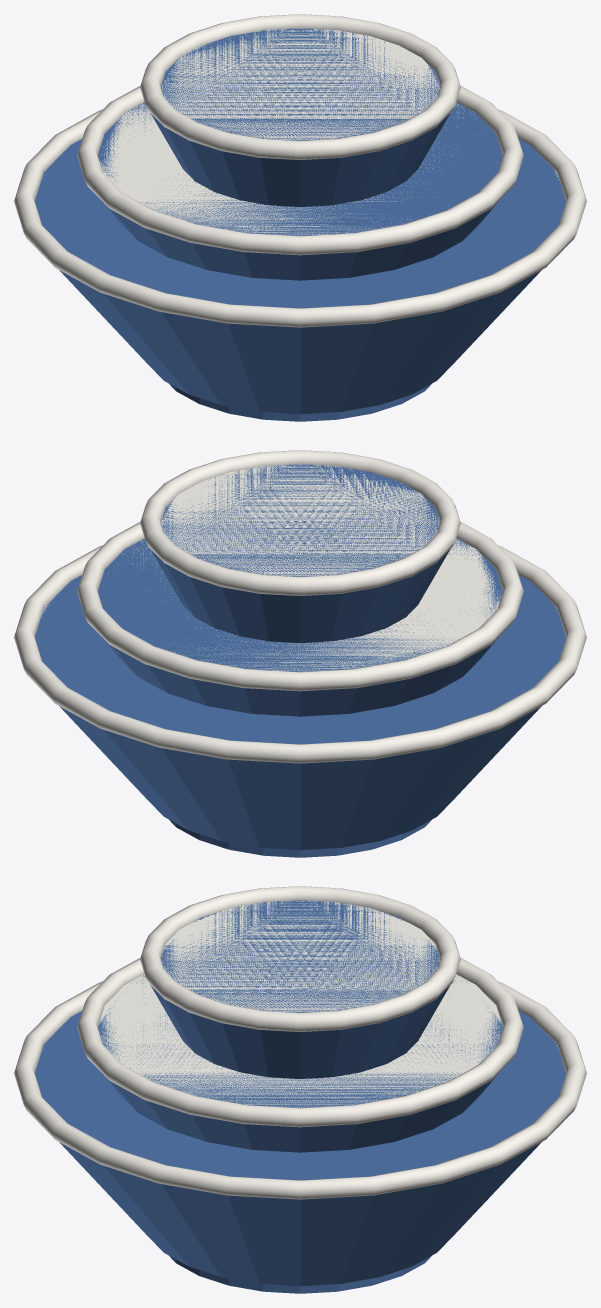
The model's file is hh_cat_bowl_set.glb.
3 views of the same model, one above another, from view 1: azimuth 30°, elevation 25°; view 2: azimuth 150°, elevation 25°; view 3: azimuth 270°, elevation 25° (orthographic).
Parts seen in each view (by area): view 1: bowl, bowl.002, bowl.001, inside.002, rim, rim.001, rim.002, inside.001, foot; view 2: bowl, bowl.002, inside.002, bowl.001, rim, rim.001, rim.002, inside.001, foot; view 3: bowl, bowl.002, inside.002, inside.001, bowl.001, rim, rim.001, rim.002, foot.
Part boxes in pixels (box(x1,y1,x2,y2)): bowl: box(35, 139, 565, 413); bowl.002: box(150, 28, 450, 206); bowl.001: box(98, 102, 502, 280); inside.002: box(161, 28, 439, 140); rim: box(14, 109, 586, 327); rim.001: box(77, 86, 523, 255); rim.002: box(140, 14, 460, 159); inside.001: box(99, 102, 475, 235); foot: box(169, 384, 431, 421); bowl: box(35, 575, 565, 849); bowl.002: box(150, 464, 450, 642); inside.002: box(161, 464, 439, 576); bowl.001: box(98, 538, 502, 716); rim: box(14, 545, 586, 763); rim.001: box(77, 522, 523, 691); rim.002: box(140, 450, 460, 595); inside.001: box(114, 538, 501, 671); foot: box(169, 820, 431, 857); bowl: box(35, 1011, 565, 1285); bowl.002: box(150, 900, 450, 1078); inside.002: box(162, 900, 439, 1012); inside.001: box(98, 974, 502, 1107); bowl.001: box(98, 974, 502, 1152); rim: box(14, 981, 586, 1199); rim.001: box(77, 958, 523, 1127); rim.002: box(140, 886, 460, 1031); foot: box(169, 1256, 431, 1293).
Size of the model in its own units: 0.22 by 0.12 by 0.22.
